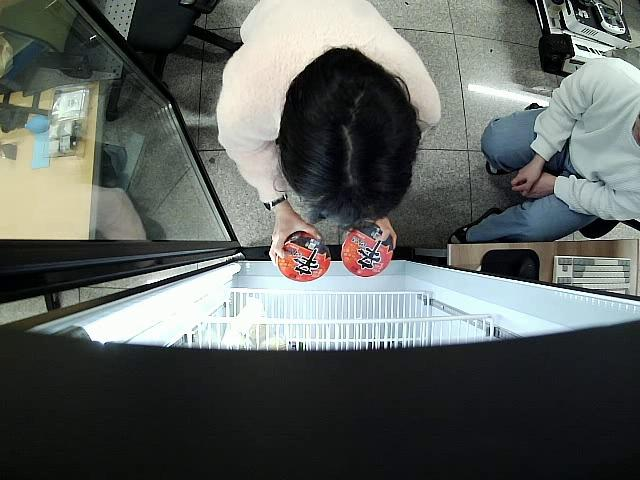00_hand: (268, 214, 323, 264)
01_shinRamen_L: (342, 223, 393, 279), (277, 232, 332, 283)
